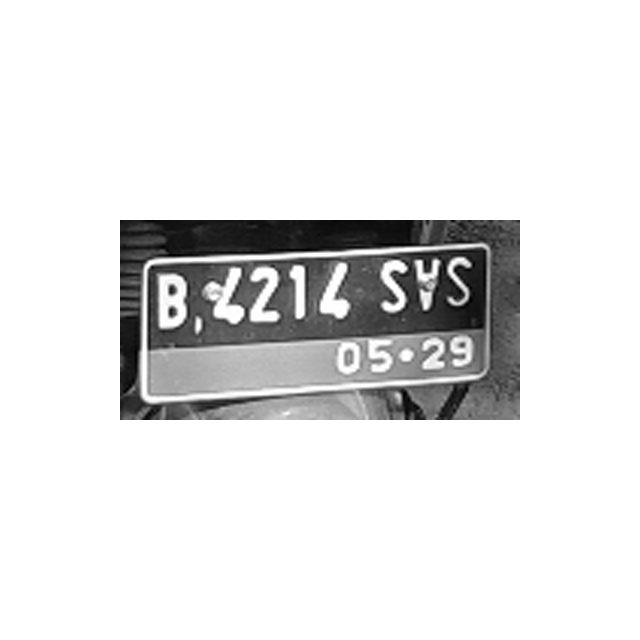contain: (151, 263, 196, 334), (210, 267, 247, 330), (281, 261, 317, 324), (245, 264, 280, 327), (319, 262, 353, 322), (377, 255, 410, 316), (413, 255, 445, 317), (443, 254, 473, 313)
